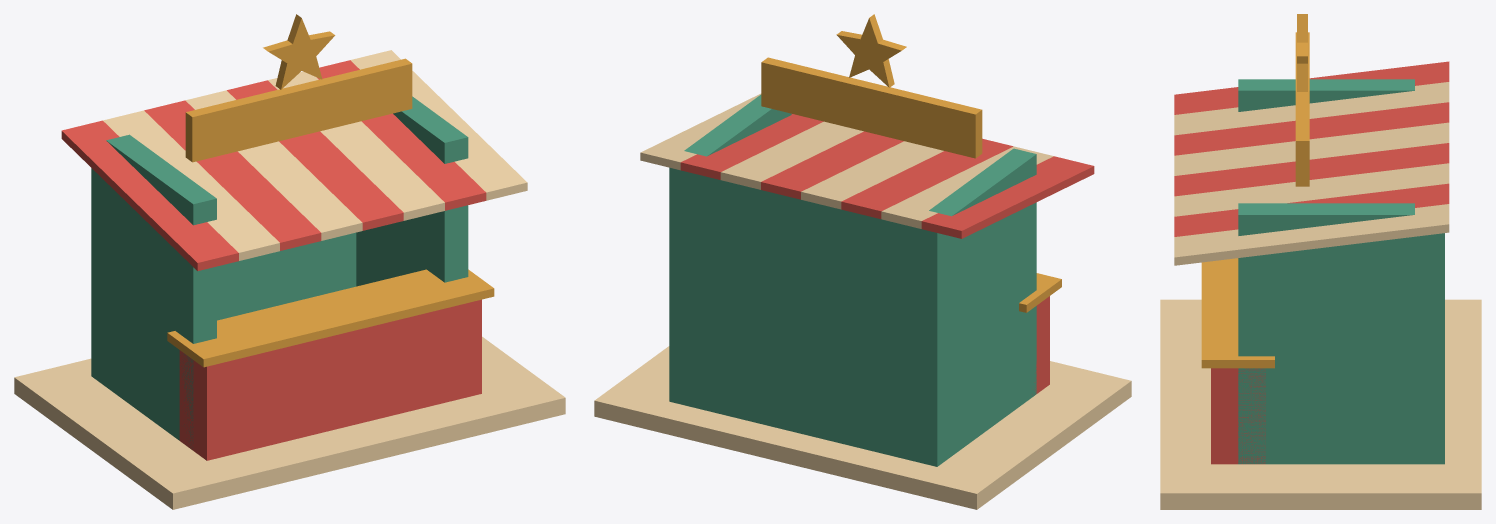
The model's file is ParkParkLandmarkTicket.obj.
3 renders of one model, left to right at view 1: azimuth 30°, elevation 25°; view 2: azimuth 150°, elevation 25°; view 3: azimuth 270°, elevation 25°, orthographic. The views are drawn at different scales.
Visible parts, largest first — view 1: ParkParkLandmarkTicket; view 2: ParkParkLandmarkTicket; view 3: ParkParkLandmarkTicket.
Boxes of the visible parts, x1,y1,x2,y2 form: ParkParkLandmarkTicket: [14, 14, 565, 509]; ParkParkLandmarkTicket: [594, 14, 1131, 509]; ParkParkLandmarkTicket: [1160, 14, 1481, 509].
Size of the model in its own units: 10 by 9.6 by 7.
